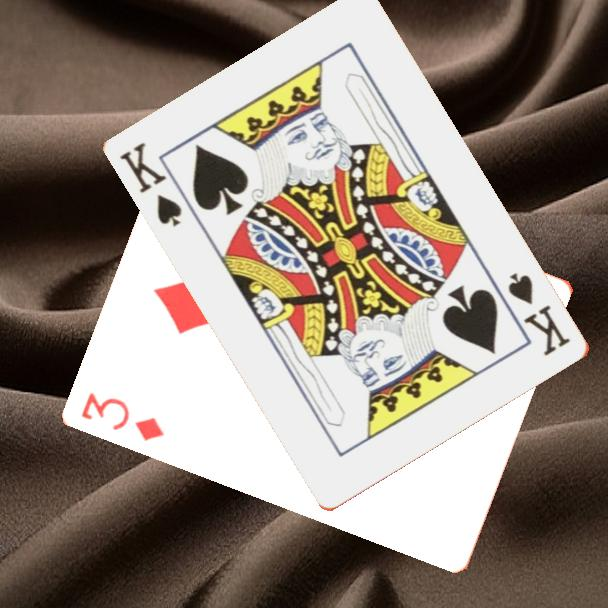d03: (78, 388, 168, 444)
s13: (117, 138, 186, 230), (505, 269, 574, 360)
